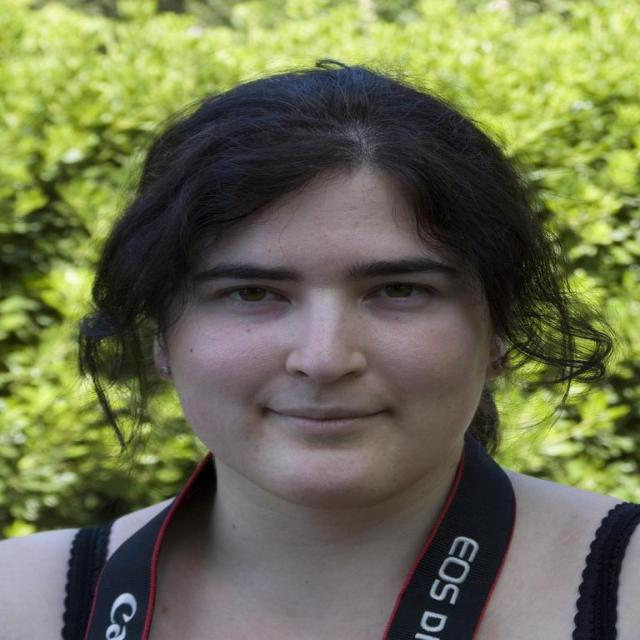no-glass: (218, 277, 437, 312)
